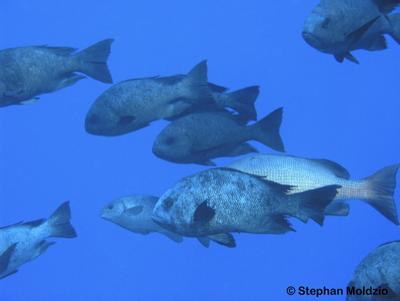Lutjanidae -Snappers-: (145, 166, 344, 243), (80, 51, 223, 140), (147, 100, 292, 166)
